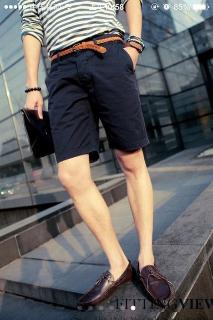long sleeve top: (18, 0, 143, 59)
shorts: (45, 33, 151, 164)
